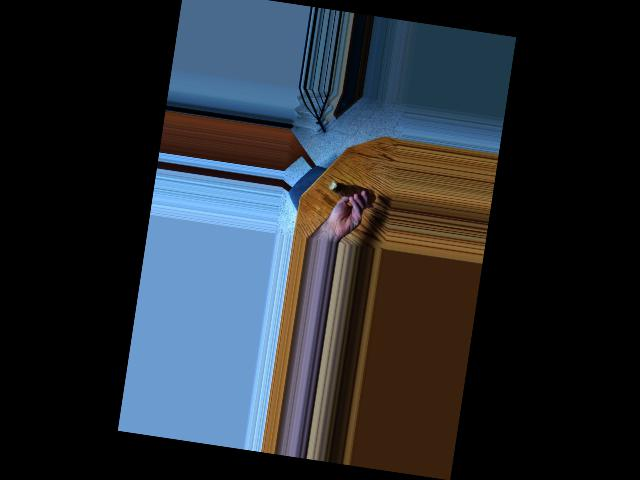sweet_potato: (326, 178, 376, 206)
